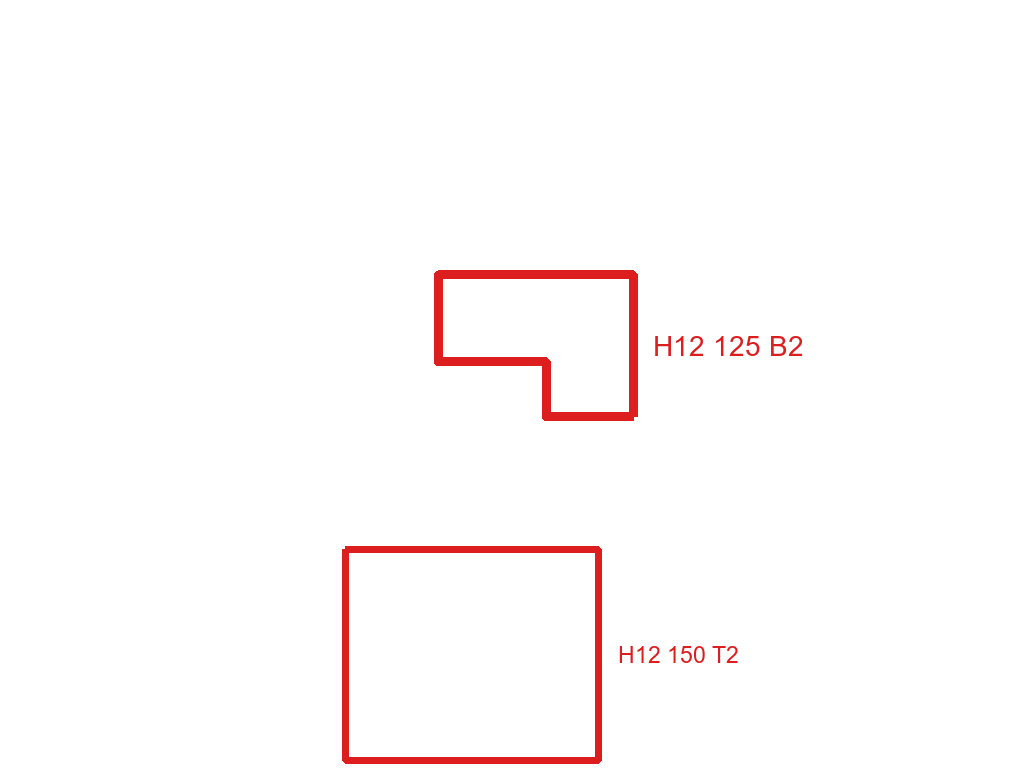shape: (340, 544, 604, 766), (432, 268, 640, 423)
text: (651, 334, 806, 358), (616, 644, 741, 665)
